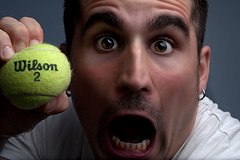tennis ball: (1, 43, 73, 106)
